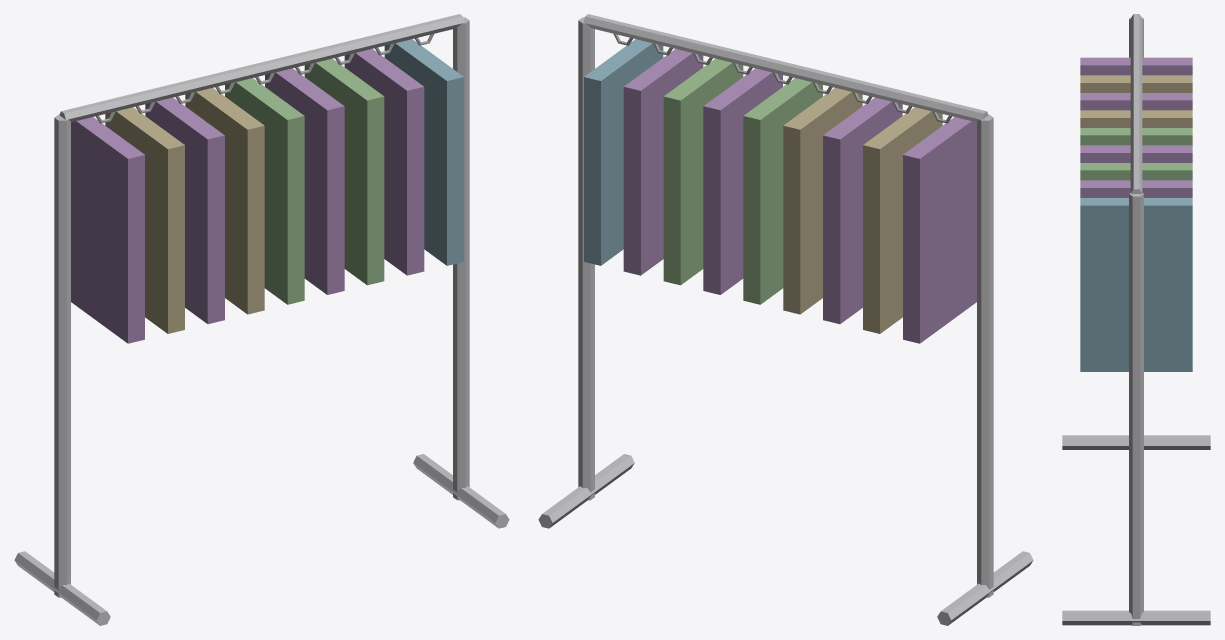
The model's file is ClothesRack.fbx.
3 views of the same model, side by side, from view 1: azimuth 30°, elevation 25°; view 2: azimuth 150°, elevation 25°; view 3: azimuth 270°, elevation 25° (orthographic). The views are drawn at different scales.
Parts seen in each view (by area): view 1: Prop_ClothesRack; view 2: Prop_ClothesRack; view 3: Prop_ClothesRack.
Part boxes in pixels (x1,y1,x2,y2): Prop_ClothesRack: [14, 14, 509, 625]; Prop_ClothesRack: [538, 14, 1033, 625]; Prop_ClothesRack: [1062, 14, 1210, 625].
Bounding box in the file's own units: 1.45 × 1.62 × 0.5.
